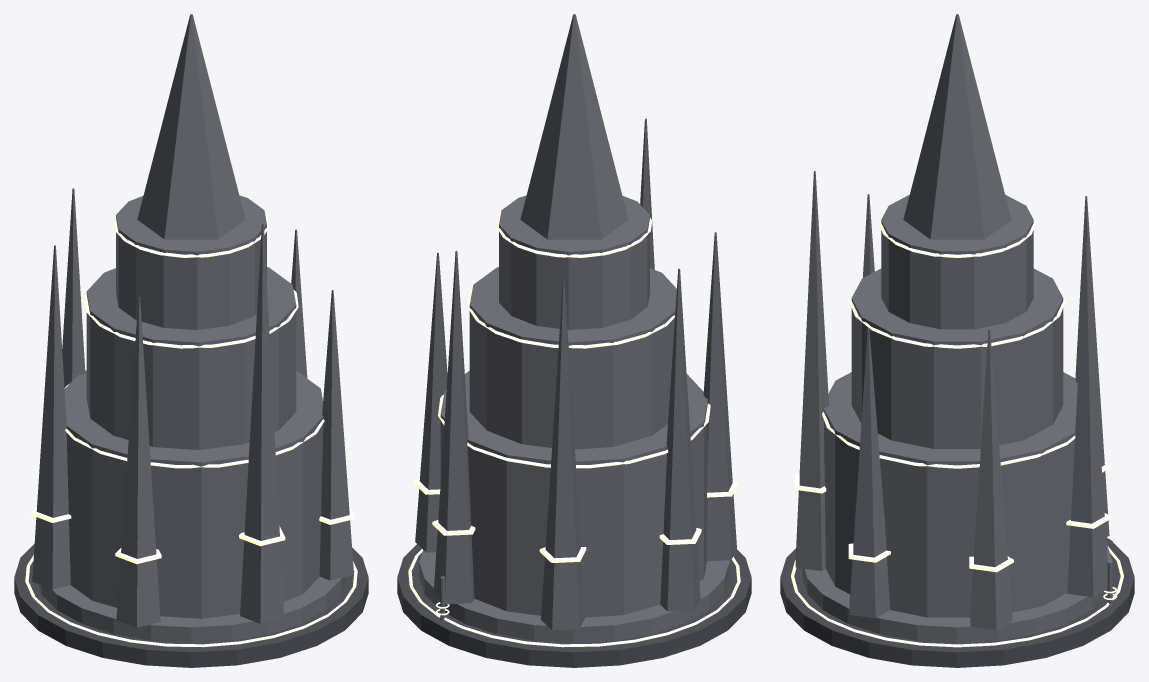
The model's file is zone_high_6_t2.glb.
3 views of the same model, side by side, from view 1: azimuth 30°, elevation 25°; view 2: azimuth 150°, elevation 25°; view 3: azimuth 270°, elevation 25° (orthographic).
Visible parts, largest first — view 1: zone_high_6_t2; view 2: zone_high_6_t2; view 3: zone_high_6_t2.
Part boxes in pixels (x1=…): zone_high_6_t2: x1=14, y1=14, x2=368, y2=667; zone_high_6_t2: x1=397, y1=14, x2=751, y2=667; zone_high_6_t2: x1=780, y1=14, x2=1134, y2=667.
Bounding box in the file's own units: 28.8 × 51.86 × 28.8.
